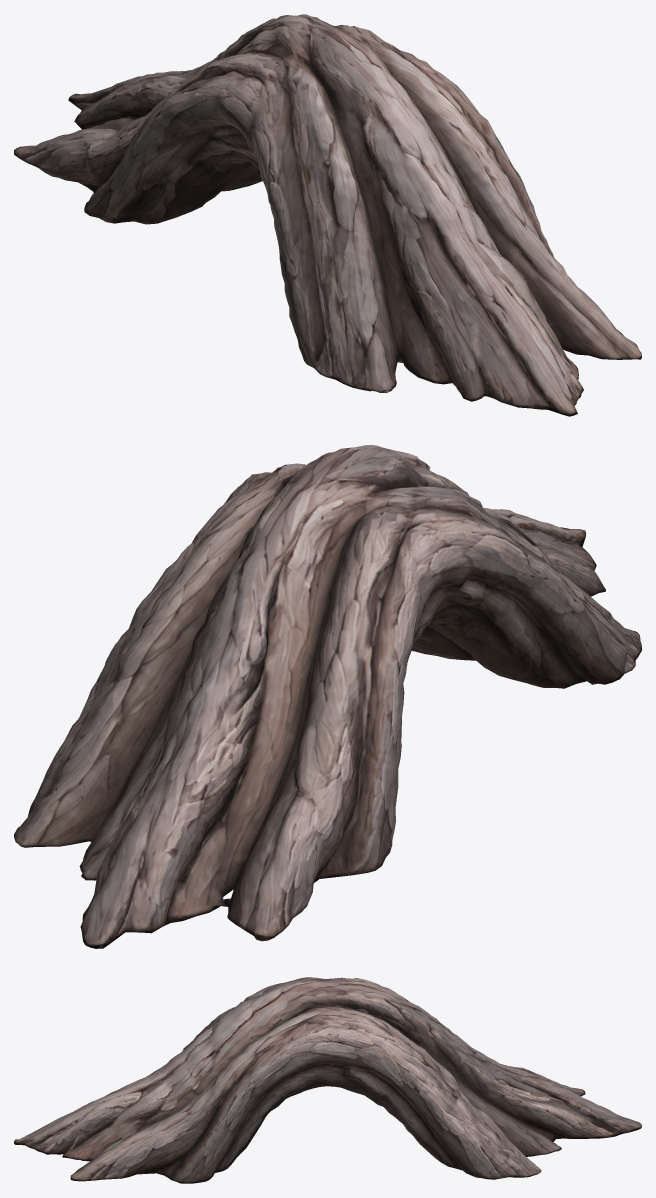
Rendered from Seonang_Tree_Root1.fbx.
3 renders of one model, top to bottom at view 1: azimuth 30°, elevation 25°; view 2: azimuth 150°, elevation 25°; view 3: azimuth 270°, elevation 25°, orthographic. The views are drawn at different scales.
Parts seen in each view (by area): view 1: tripo_node_e1990e2b; view 2: tripo_node_e1990e2b; view 3: tripo_node_e1990e2b.
Part boxes in pixels (box(x1,y1,x2,y2)): tripo_node_e1990e2b: box(14, 14, 641, 416); tripo_node_e1990e2b: box(14, 445, 641, 948); tripo_node_e1990e2b: box(14, 977, 641, 1183).
Bounding box in the file's own units: 34.8 × 97.18 × 27.2.
